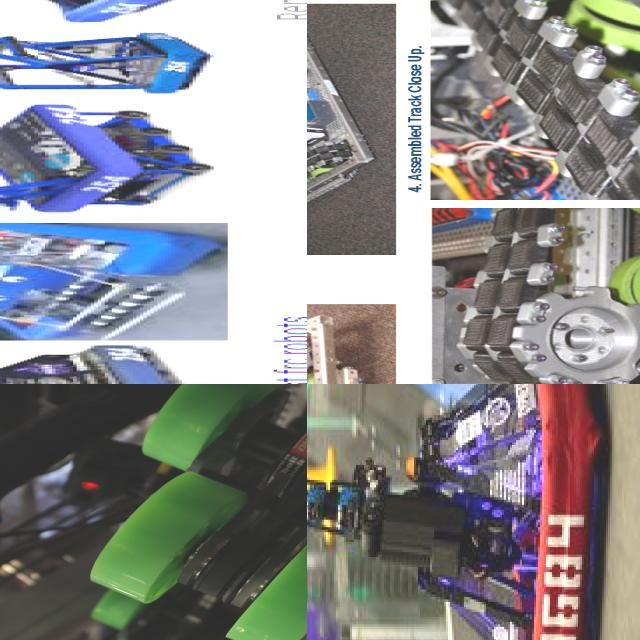FRC-Robots: (307, 384, 634, 640), (0, 384, 307, 640), (425, 0, 640, 196), (0, 219, 237, 339), (0, 105, 226, 211), (0, 24, 244, 100), (0, 348, 224, 384)
